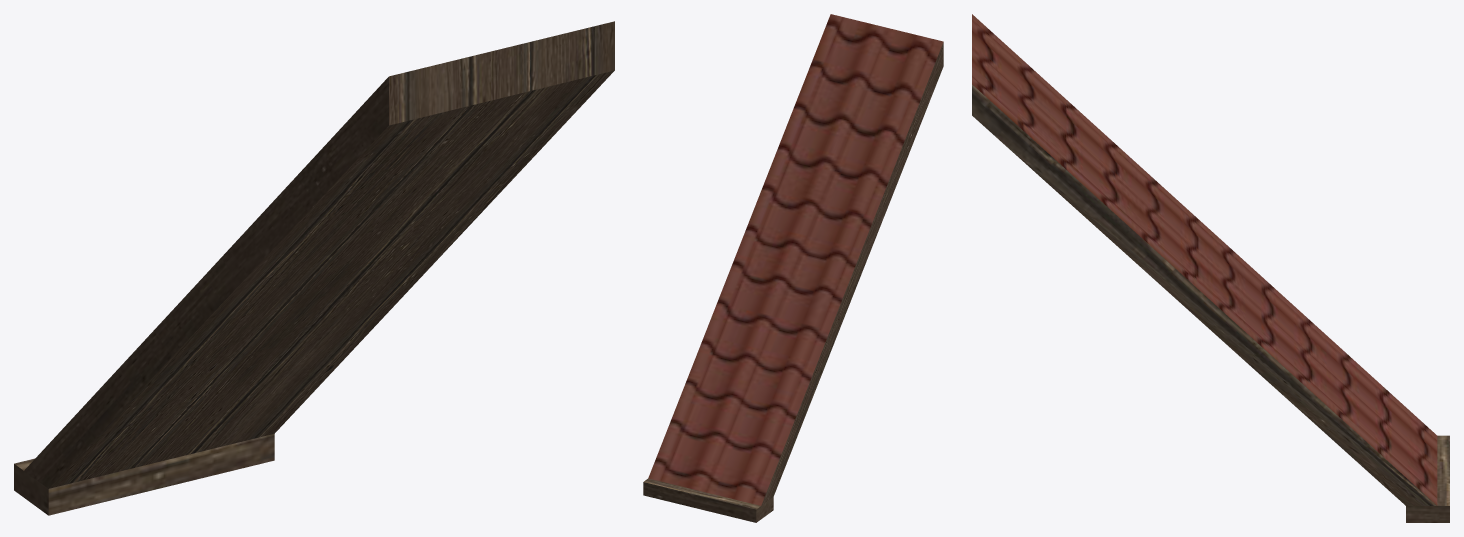
File: ARC1010391.fbx
3 views of the same model, side by side, from view 1: azimuth 30°, elevation 25°; view 2: azimuth 150°, elevation 25°; view 3: azimuth 270°, elevation 25° (orthographic). The views are drawn at different scales.
Visible parts, largest first — view 1: smARC1010391; view 2: smARC1010391; view 3: smARC1010391.
Boxes of the visible parts, bbox=[...] form: smARC1010391: bbox=[14, 21, 614, 515]; smARC1010391: bbox=[643, 14, 943, 522]; smARC1010391: bbox=[972, 14, 1449, 522].
Bounding box in the file's own units: 112 × 325 × 321.
1 material, 1 textured.
